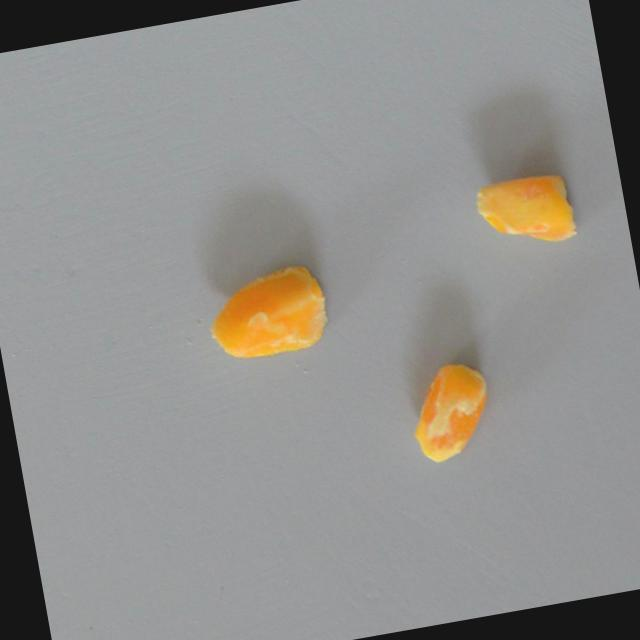pelicula: (193, 252, 337, 381), (399, 352, 501, 473), (465, 163, 585, 258)
